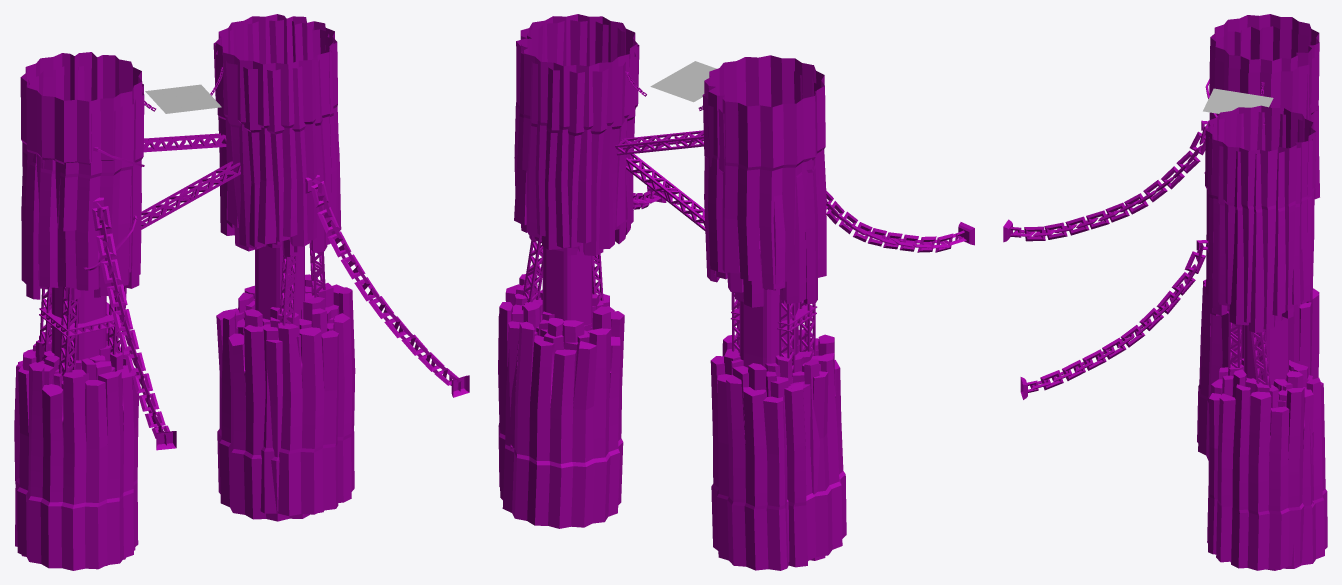
Rendered from Mine_Entrance.fbx.
The picture shows the model from 3 angles, left to right: view 1: azimuth 30°, elevation 25°; view 2: azimuth 150°, elevation 25°; view 3: azimuth 270°, elevation 25°; orthographic projection. The views are drawn at different scales.
Visible parts, largest first — view 1: Staff_Entrance, Entrance_Steel, Mine_Banner_Back; view 2: Entrance_Steel, Staff_Entrance, Mine_Banner_Back; view 3: Staff_Entrance, Entrance_Steel, Mine_Banner_Back.
Part boxes in pixels (box(x1,y1,x2,y2)): Staff_Entrance: box(16, 14, 355, 570); Entrance_Steel: box(14, 20, 469, 565); Mine_Banner_Back: box(145, 84, 221, 113); Entrance_Steel: box(501, 20, 974, 570); Staff_Entrance: box(498, 14, 846, 562); Mine_Banner_Back: box(650, 61, 716, 102); Staff_Entrance: box(1197, 14, 1319, 570); Entrance_Steel: box(1003, 26, 1327, 570); Mine_Banner_Back: box(1203, 88, 1273, 113).
Size of the model in its own units: 48.11 by 65.52 by 45.3.
